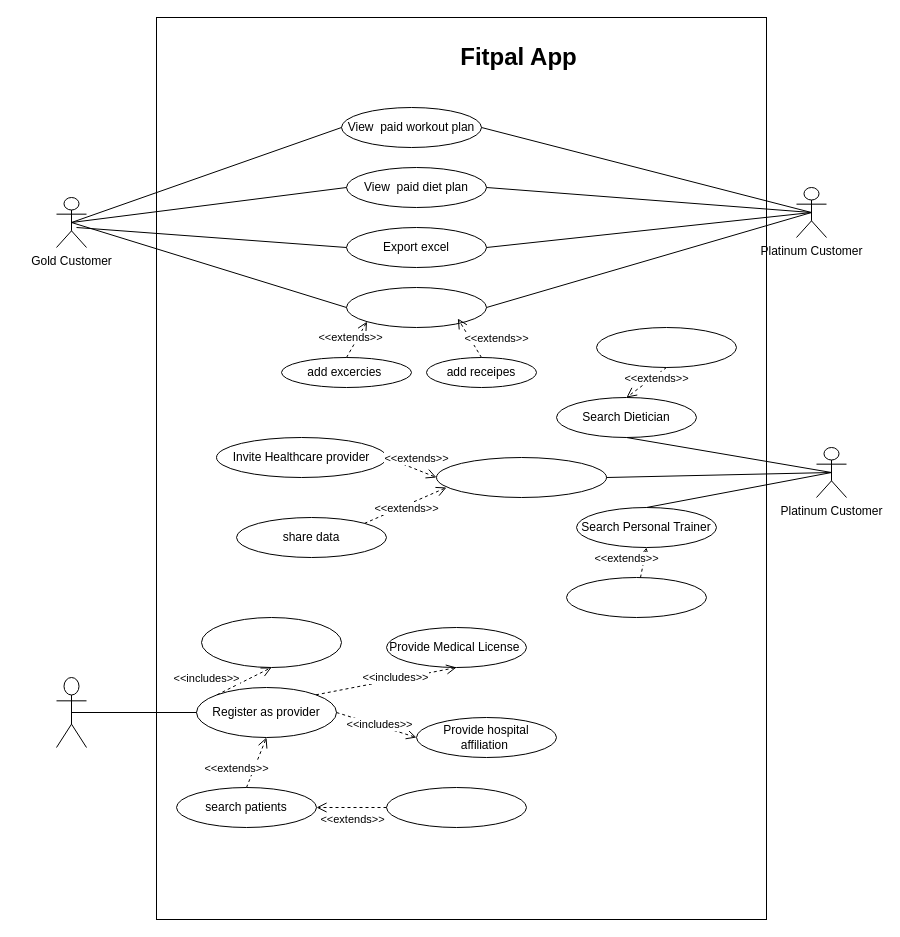
This 900x937 diagram has some shape labels left out. The centre of each missing label's shape, as x and y in pixels:
"Healthcare Provider" goes at (71,712).
"Make favorites list" goes at (416,307).
"Provide contact details" goes at (271,642).
"Search Healthcare Provider" goes at (521,477).
"Select Dietician" goes at (666,347).
"Select Personal Trainer" goes at (636,597).
"view patient reports" goes at (456,807).
